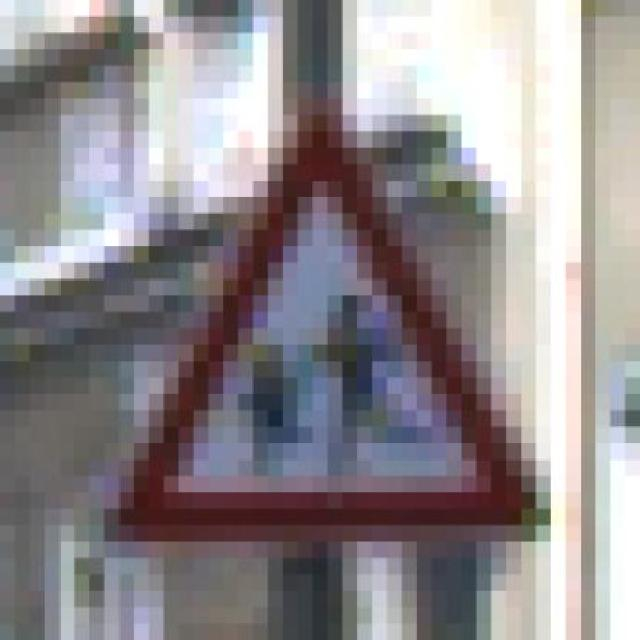Beware of children: (89, 115, 566, 542)
